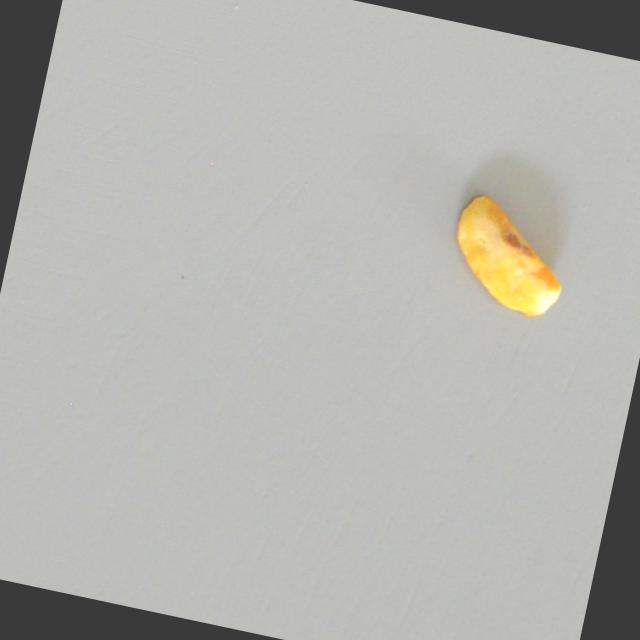dañado: (436, 185, 580, 325)
